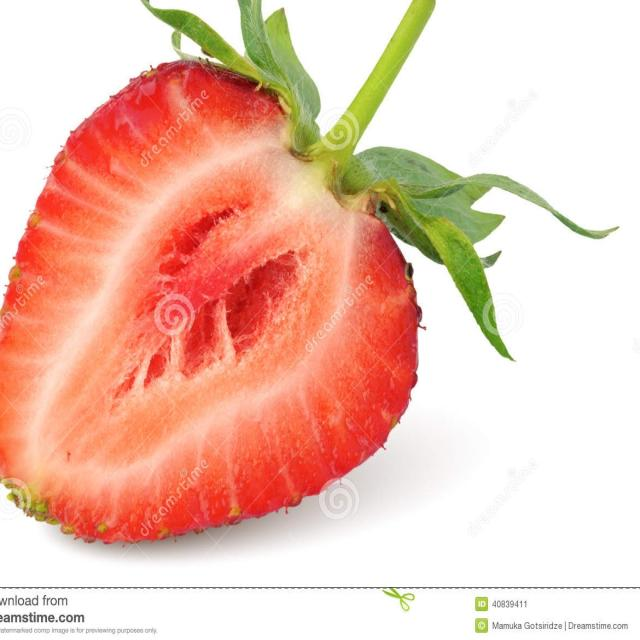strawberry: (0, 0, 525, 554)
